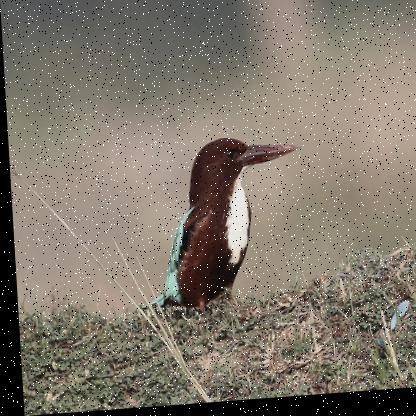Burung: (132, 138, 307, 314)
